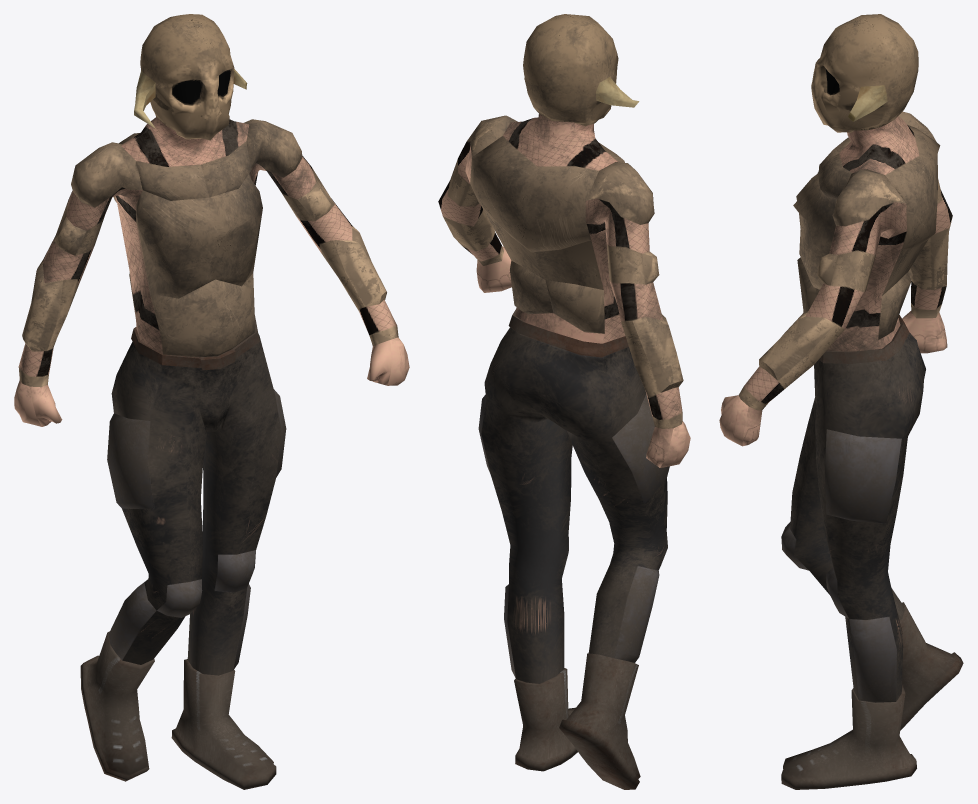
File: Anim_andar_npc1.0037.obj
The picture shows the model from 3 angles, left to right: view 1: azimuth 30°, elevation 25°; view 2: azimuth 150°, elevation 25°; view 3: azimuth 270°, elevation 25°; orthographic projection.
Visible parts, largest first — view 1: Anim_andar_npc1; view 2: Anim_andar_npc1; view 3: Anim_andar_npc1.
Part boxes in pixels (<box>): Anim_andar_npc1: <box>14,14,409,789</box>; Anim_andar_npc1: <box>438,14,690,789</box>; Anim_andar_npc1: <box>719,14,963,789</box>.
Size of the model in its own units: 4.05 by 9.78 by 2.86.
